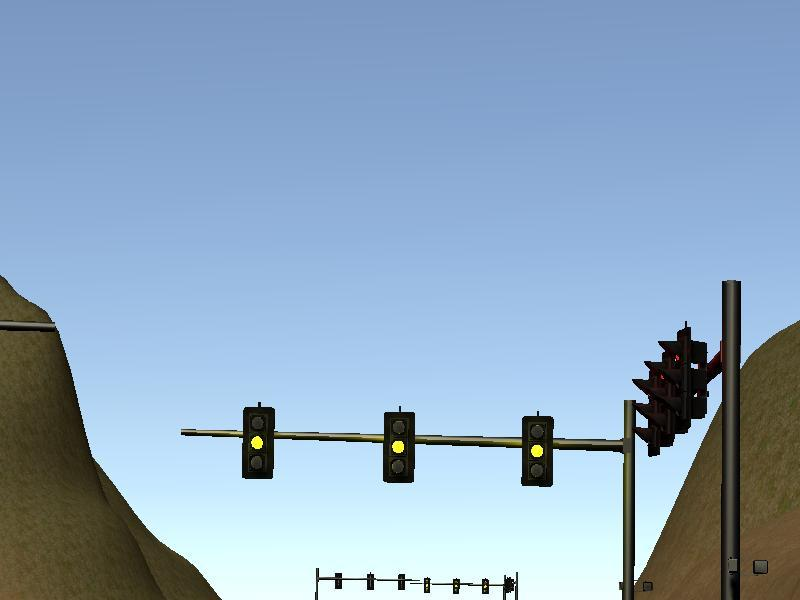Yellow: (519, 415, 555, 488), (243, 406, 275, 478), (383, 411, 414, 481)
